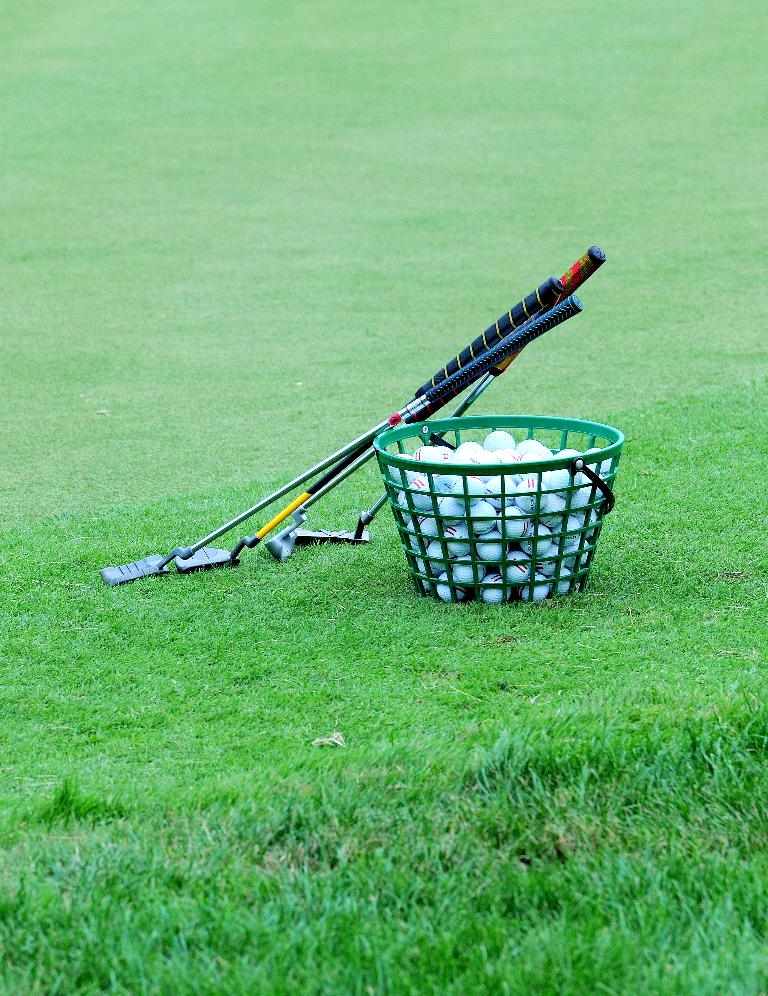Ball: (397, 423, 613, 604)
